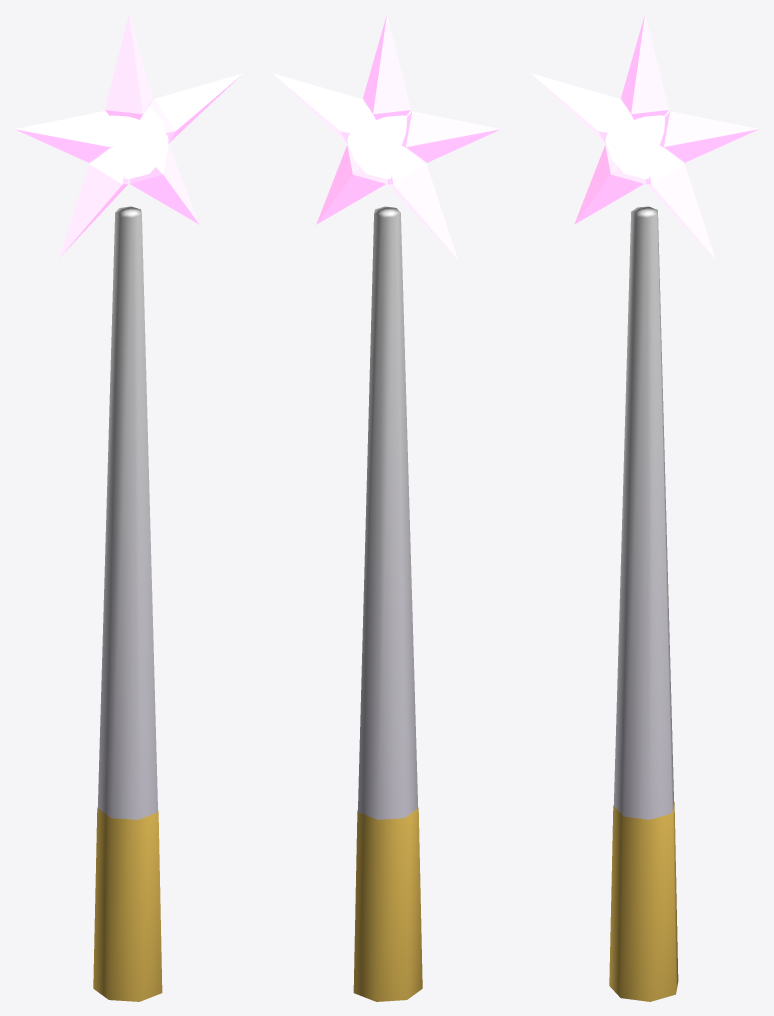
Rendered from wand_star.glb.
3 views of the same model, side by side, from view 1: azimuth 30°, elevation 25°; view 2: azimuth 150°, elevation 25°; view 3: azimuth 330°, elevation 25° (orthographic).
Visible parts, largest first — view 1: wand_star; view 2: wand_star; view 3: wand_star.
Boxes of the visible parts, <box> form: wand_star: <box>14,15,242,1001</box>; wand_star: <box>273,15,501,1001</box>; wand_star: <box>531,15,759,1001</box>.
Bounding box in the file's own units: 0.1331 × 0.54 × 0.04.
